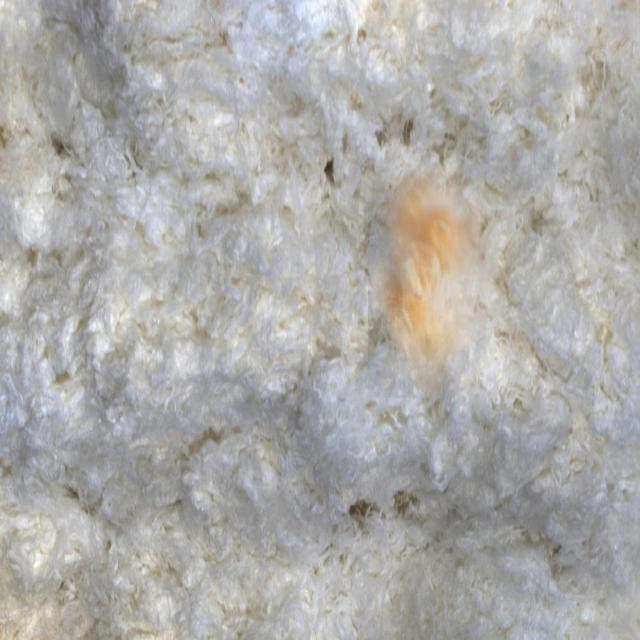dust: (368, 167, 494, 398)
